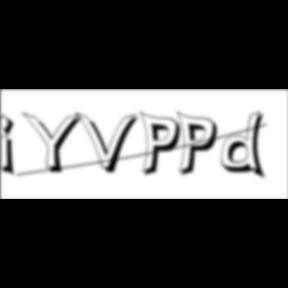P: (176, 110, 224, 180), (140, 110, 186, 180)
V: (76, 110, 142, 176)
Y: (21, 110, 88, 176)
d: (221, 110, 271, 182)
i: (0, 112, 22, 180)
